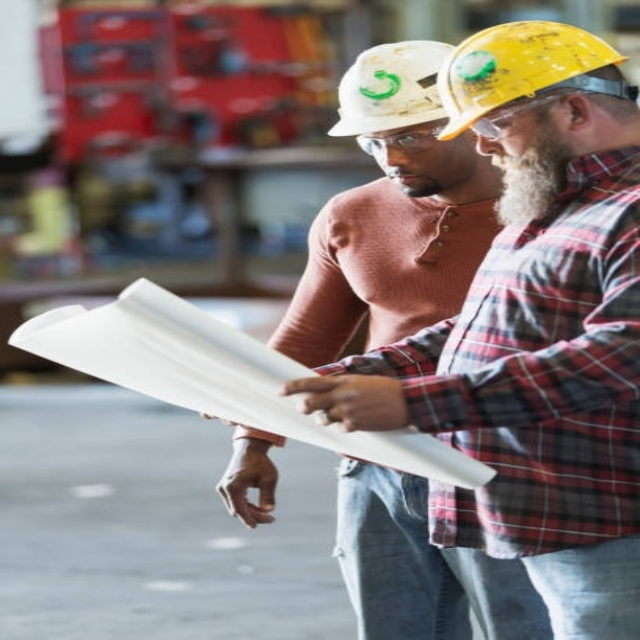Gafas: (469, 94, 563, 137), (355, 123, 449, 157)
Sin_guantes: (281, 371, 409, 434), (215, 439, 282, 530)
Sin_mascara: (478, 142, 533, 179), (383, 166, 435, 195)
